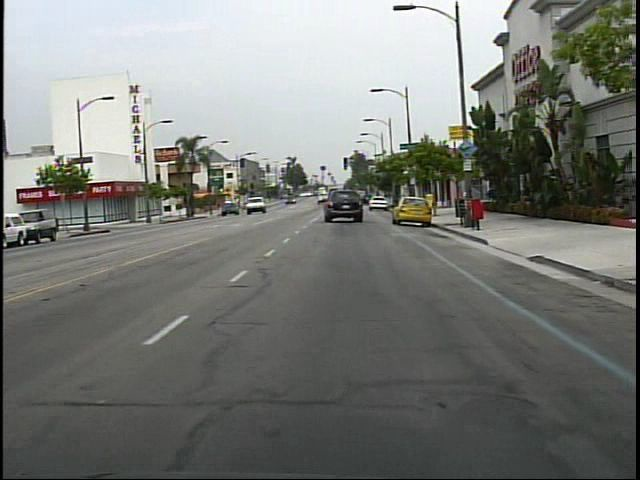person: (461, 183, 483, 218)
